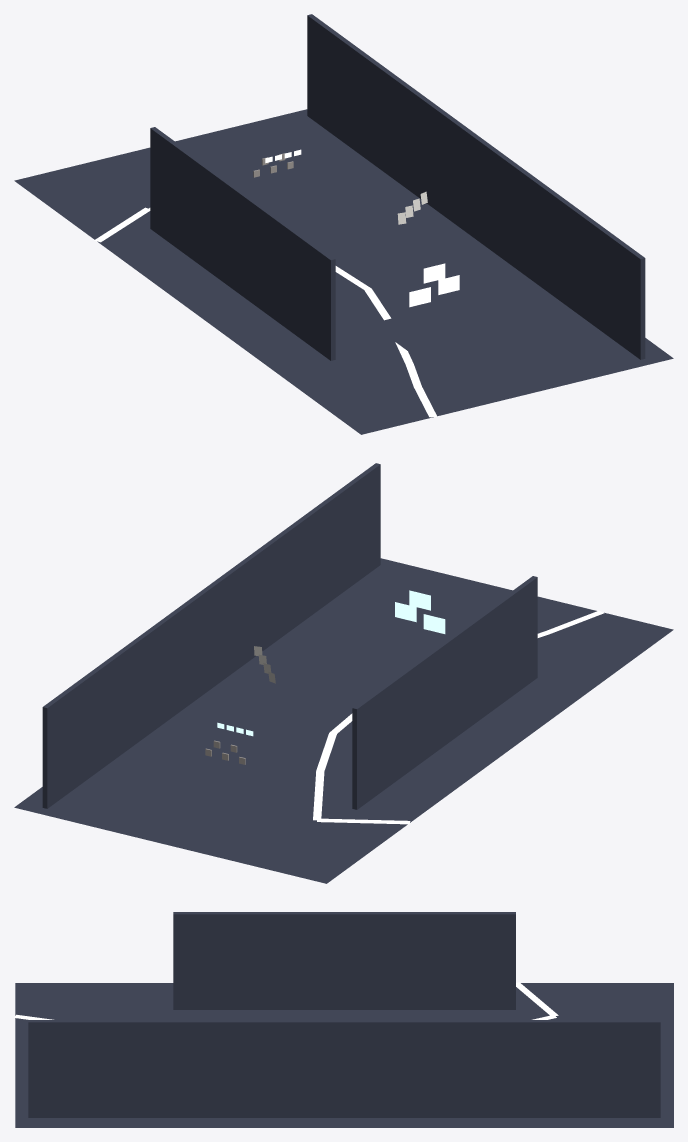
The model's file is tech.glb.
The picture shows the model from 3 angles, top to bottom: view 1: azimuth 30°, elevation 25°; view 2: azimuth 150°, elevation 25°; view 3: azimuth 270°, elevation 25°; orthographic projection. The views are drawn at different scales.
Parts seen in each view (by area): view 1: env_tech_ground, env_tech_corridor, env_tech_note_to_self_space, env_tech_web_space, env_tech_archive_space, env_tech_path, int_web_interface; view 2: env_tech_ground, env_tech_corridor, env_tech_note_to_self_space, env_tech_archive_space, env_tech_web_space, env_tech_path, int_web_interface; view 3: env_tech_corridor, env_tech_ground.
Part boxes in pixels (x1,y1,x2,y2): env_tech_ground: [14, 109, 673, 434]; env_tech_corridor: [150, 14, 645, 360]; env_tech_note_to_self_space: [353, 222, 465, 270]; env_tech_web_space: [371, 306, 483, 353]; env_tech_archive_space: [237, 173, 333, 217]; env_tech_path: [147, 208, 437, 417]; int_web_interface: [409, 263, 459, 307]; env_tech_ground: [14, 558, 673, 883]; env_tech_corridor: [42, 463, 537, 809]; env_tech_note_to_self_space: [208, 681, 321, 729]; env_tech_archive_space: [173, 754, 285, 802]; env_tech_web_space: [371, 633, 443, 671]; env_tech_path: [313, 610, 604, 820]; int_web_interface: [395, 590, 445, 633]; env_tech_corridor: [28, 912, 660, 1117]; env_tech_ground: [15, 983, 673, 1127].
Bounding box in the file's own units: 13.07 × 4 × 25.05.
